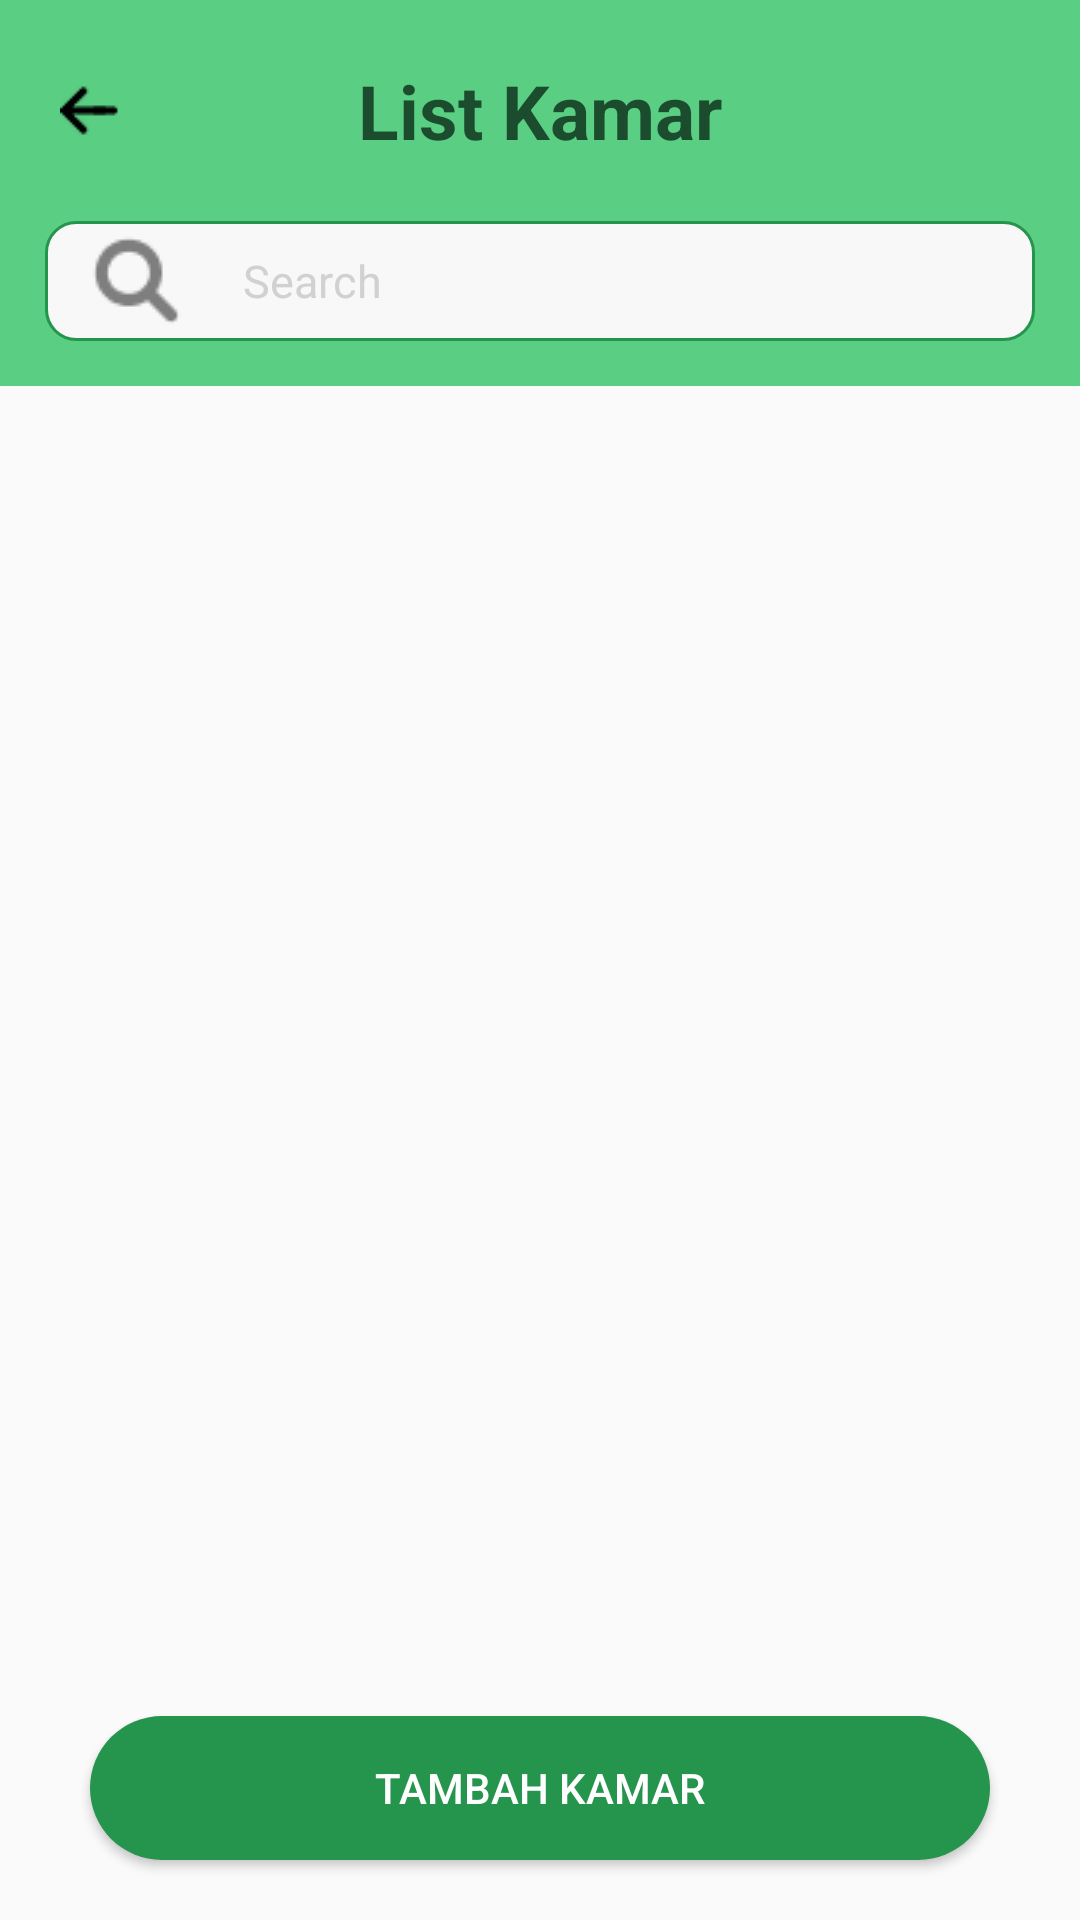

Named icons in this screenshot (1080 × 1920) and their centers, [x,y]:
back: [89,110]
